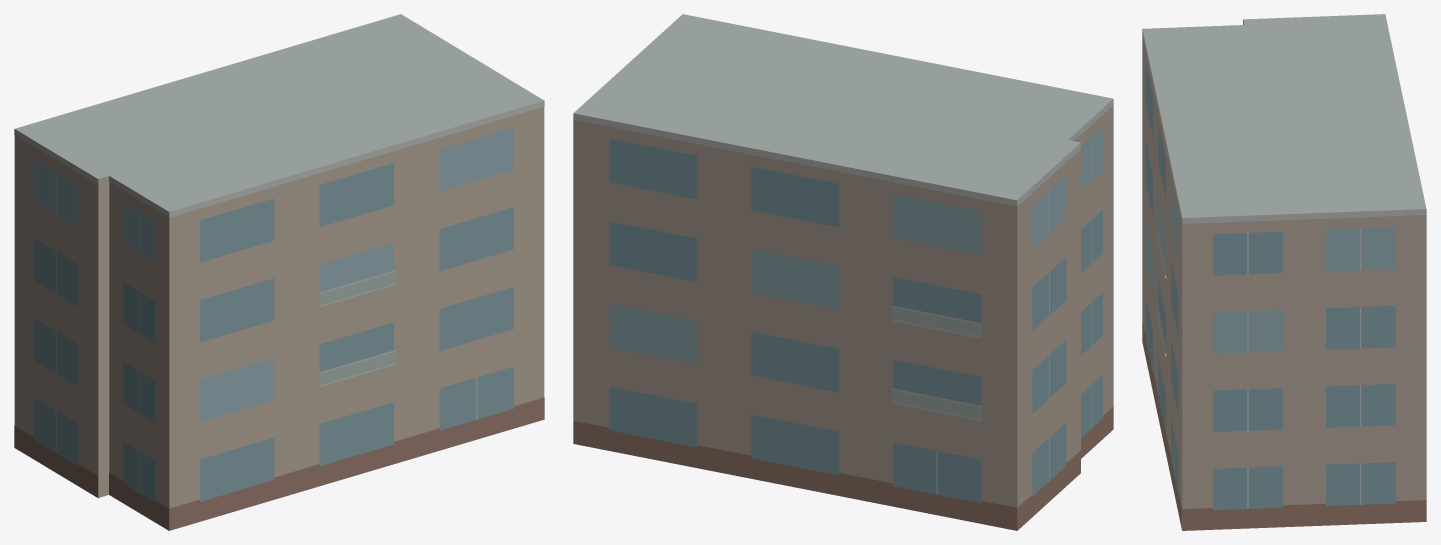
Rendered from survey-upis-32633806.glb.
3 renders of one model, left to right at view 1: azimuth 30°, elevation 25°; view 2: azimuth 150°, elevation 25°; view 3: azimuth 270°, elevation 25°, orthographic. The views are drawn at different scales.
Parts seen in each view (by area): view 1: survey-upis-32633806.tmp; view 2: survey-upis-32633806.tmp; view 3: survey-upis-32633806.tmp.
Part boxes in pixels (x1,y1,x2,y2): survey-upis-32633806.tmp: [14, 14, 544, 530]; survey-upis-32633806.tmp: [573, 14, 1113, 530]; survey-upis-32633806.tmp: [1142, 14, 1426, 530].
Bounding box in the file's own units: 17.92 × 12.8 × 10.55.
